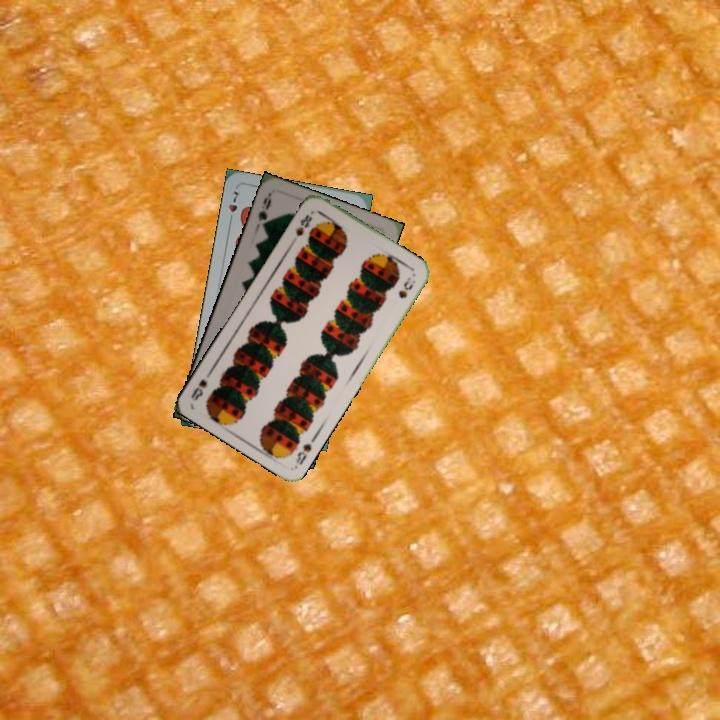G9: (254, 190, 274, 231)
H7: (224, 187, 241, 226)
S8: (291, 210, 315, 239), (292, 439, 314, 467)
